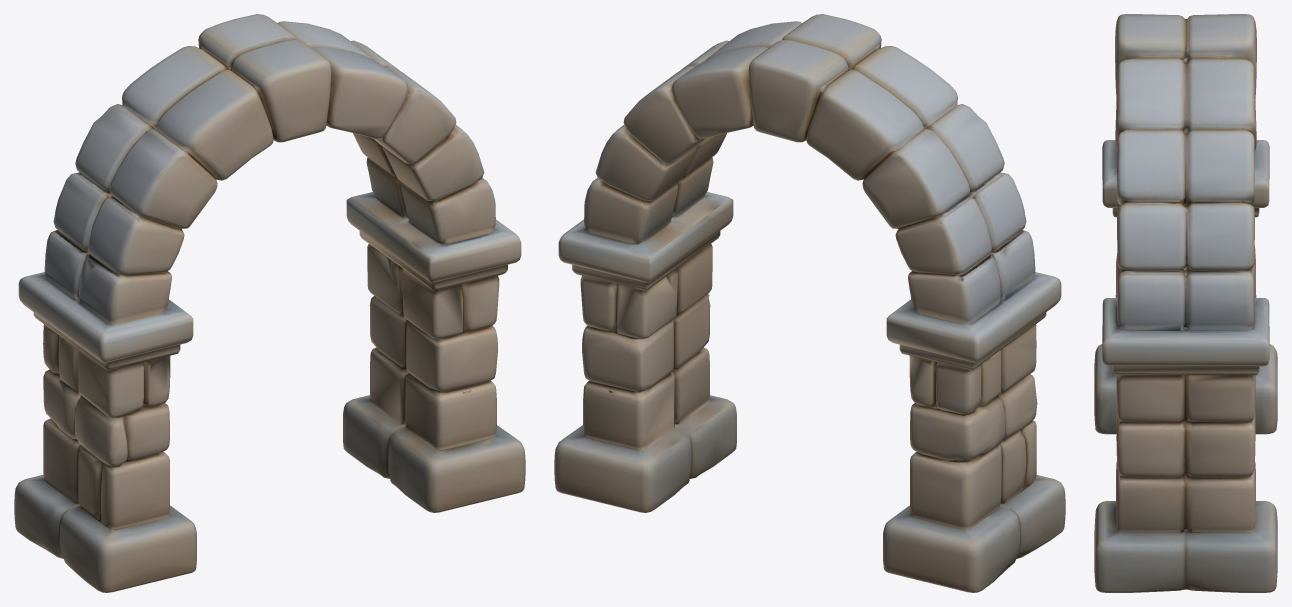
File: Outdoor__a_stone_arch_da4a7c00_v4.cluster.glb
3 renders of one model, left to right at view 1: azimuth 30°, elevation 25°; view 2: azimuth 150°, elevation 25°; view 3: azimuth 270°, elevation 25°, orthographic.
Parts seen in each view (by area): view 1: material; view 2: material; view 3: material.
Part boxes in pixels (<box>): material: <box>14,14,525,592</box>; material: <box>554,14,1065,592</box>; material: <box>1094,14,1277,592</box>.
Size of the model in its own units: 1.81 by 1.9 by 0.6815.
Materials: 1 (1 with a texture image).
